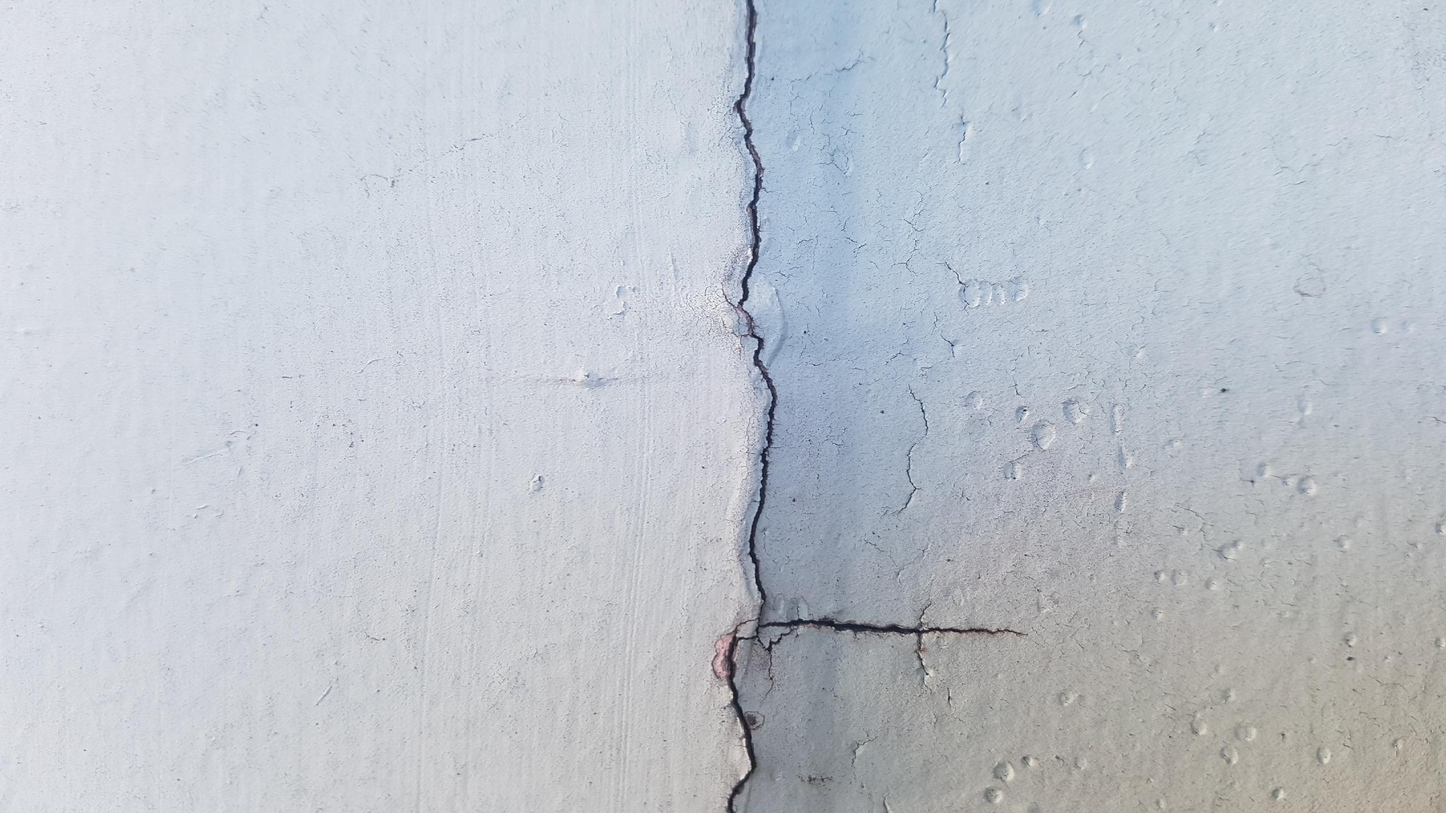crack: (720, 1, 1033, 810)
